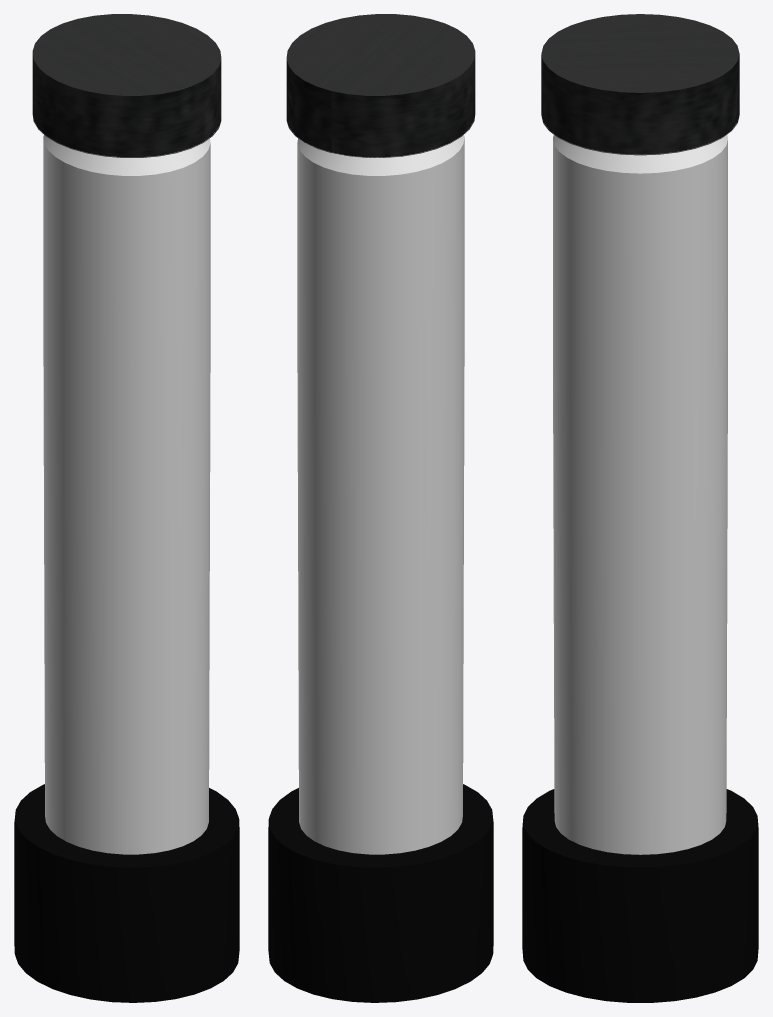
Rendered from glowstick.fbx.
3 views of the same model, side by side, from view 1: azimuth 30°, elevation 25°; view 2: azimuth 150°, elevation 25°; view 3: azimuth 270°, elevation 25° (orthographic).
Visible parts, largest first — view 1: Sphere, Sphere.001, Sphere.002; view 2: Sphere, Sphere.001, Sphere.002; view 3: Sphere, Sphere.001, Sphere.002.
Part boxes in pixels (bbox=[...]): Sphere: bbox=[43, 135, 210, 854]; Sphere.001: bbox=[14, 784, 239, 1002]; Sphere.002: bbox=[32, 14, 221, 157]; Sphere: bbox=[297, 135, 464, 854]; Sphere.001: bbox=[268, 784, 493, 1002]; Sphere.002: bbox=[286, 14, 475, 157]; Sphere: bbox=[553, 135, 727, 854]; Sphere.001: bbox=[522, 789, 758, 1002]; Sphere.002: bbox=[541, 14, 739, 155].
Size of the model in its own units: 66.03 by 295 by 69.96.
